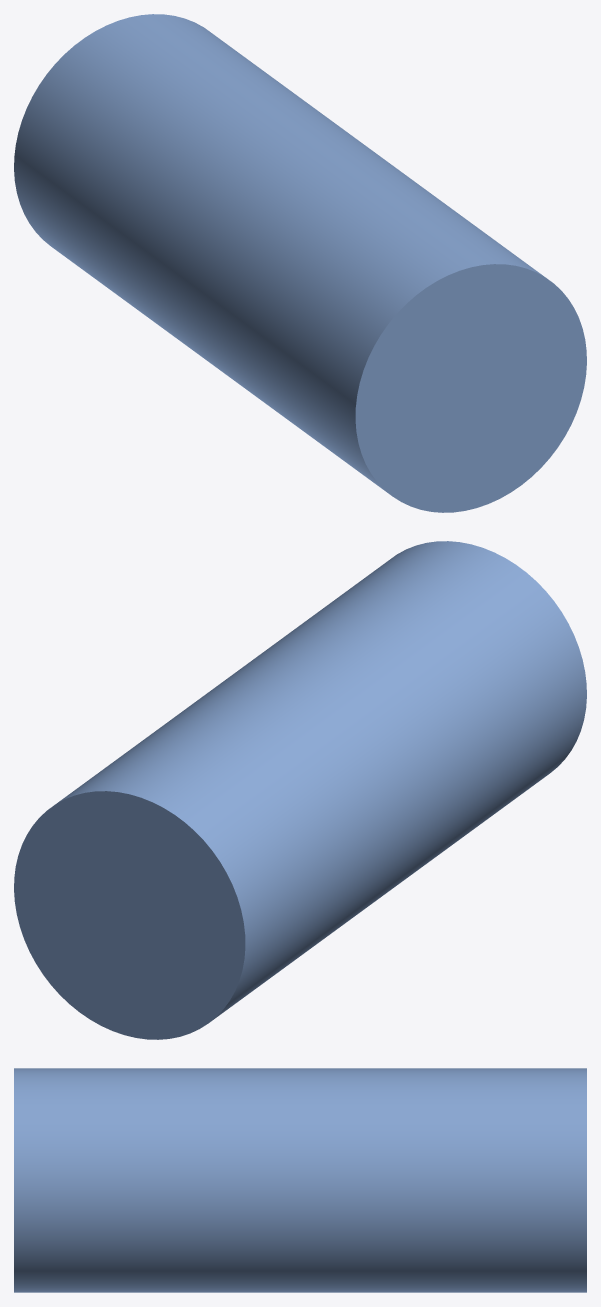
Rendered from step_44.glb.
3 views of the same model, one above another, from view 1: azimuth 30°, elevation 25°; view 2: azimuth 150°, elevation 25°; view 3: azimuth 270°, elevation 25° (orthographic). The views are drawn at different scales.
Parts seen in each view (by area): view 1: part__4" needle valve body NV-101; view 2: part__4" needle valve body NV-101; view 3: part__4" needle valve body NV-101.
Part boxes in pixels (x1=…): part__4" needle valve body NV-101: x1=14, y1=14, x2=586, y2=512; part__4" needle valve body NV-101: x1=14, y1=541, x2=586, y2=1039; part__4" needle valve body NV-101: x1=14, y1=1068, x2=586, y2=1292.
Size of the model in its own units: 114 by 114 by 292.
